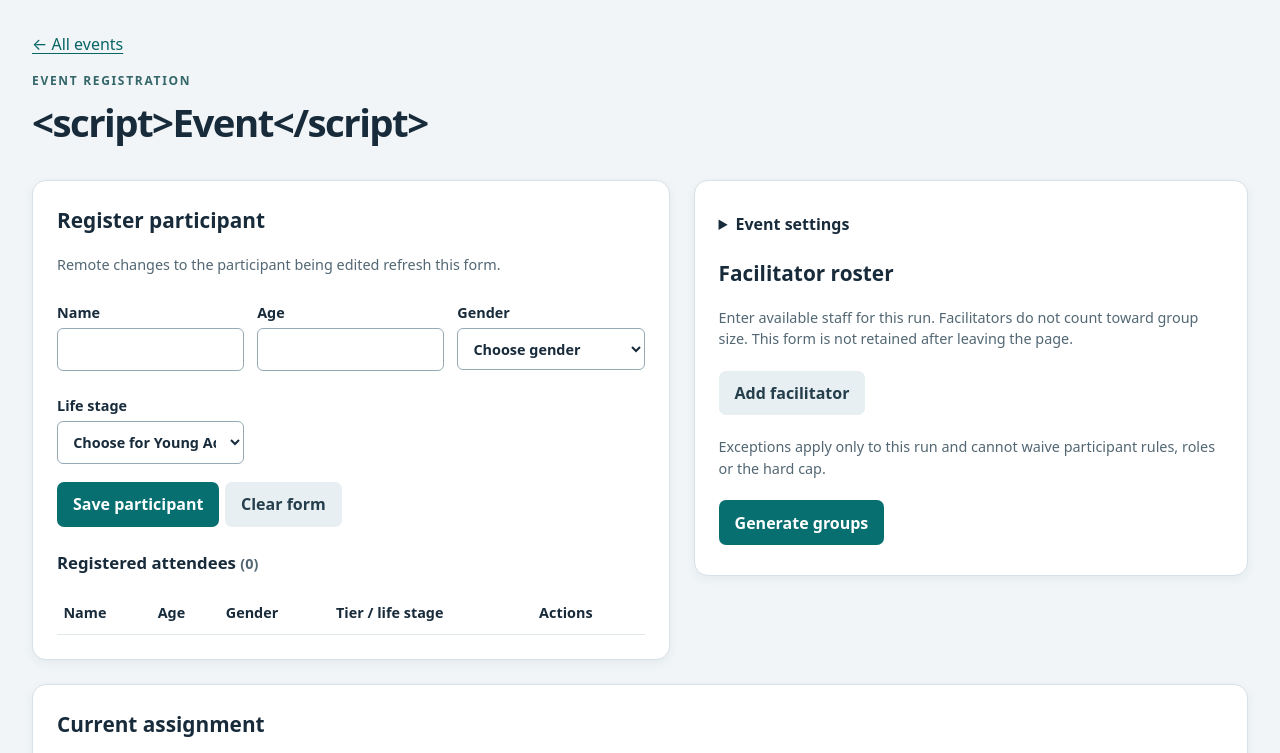
Scenario: saves event settings without changing the API contract or event identity
Expected: the heading "<script>Event</script>" is shown, [32, 96, 428, 148]
Step 1. Click the heading "Event settings" → {"x": 792, "y": 224}, box [736, 213, 849, 235]
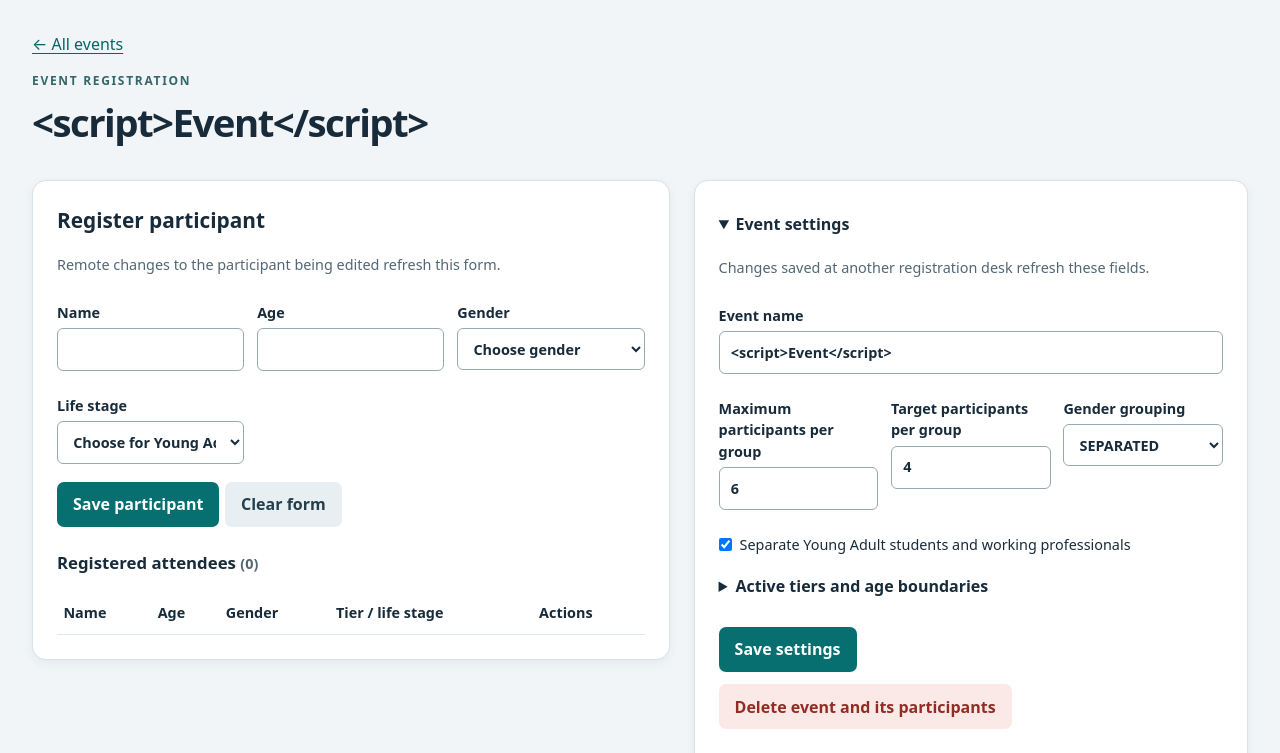
Step 2. Replace the text in the field labelled "Event name" with "Renamed event" → {"x": 971, "y": 352}, box [719, 331, 1223, 374]
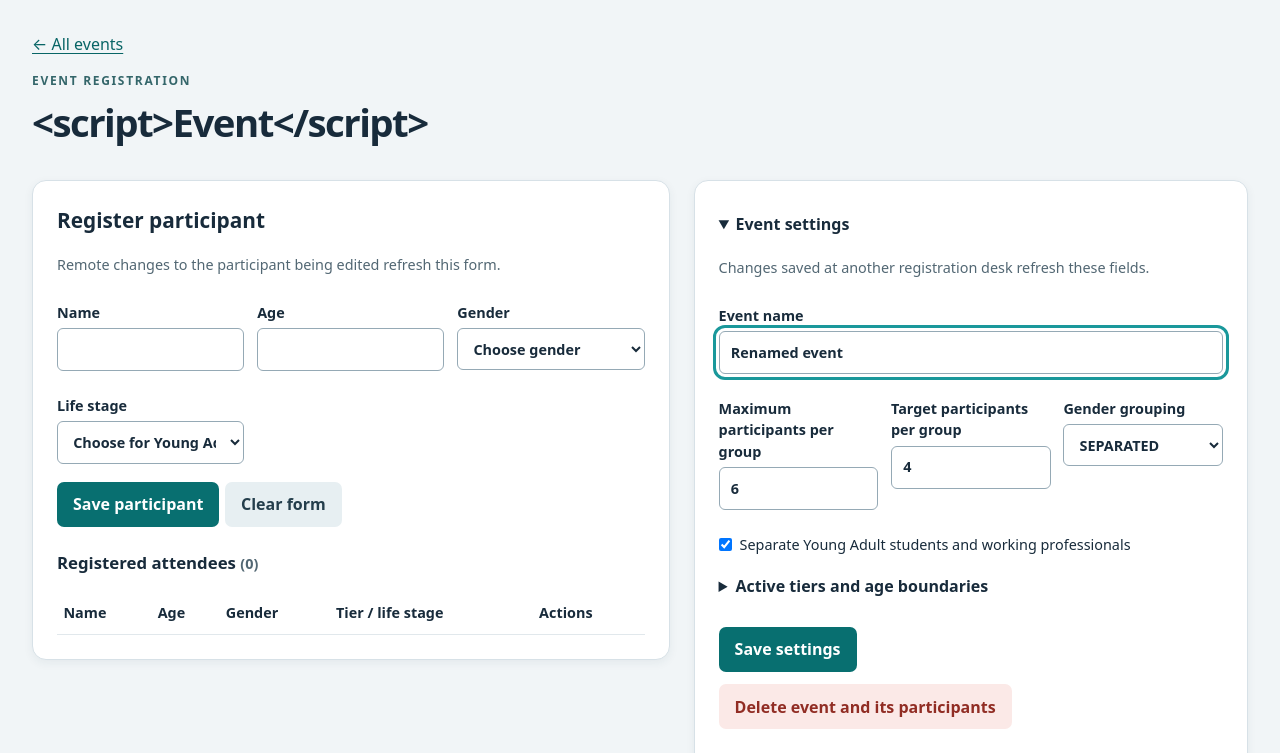
Step 3. Replace the text in the number field labelled "Target participants per group" with "3" → {"x": 971, "y": 467}, box [891, 446, 1051, 489]
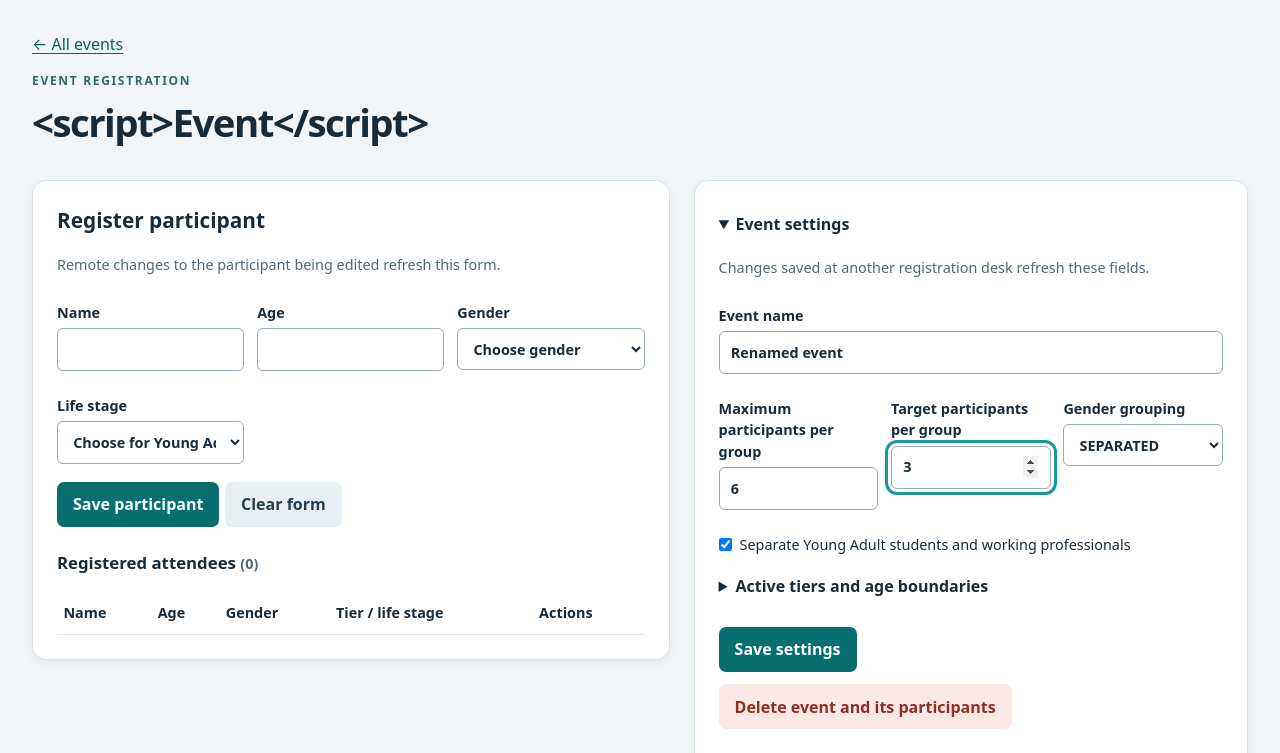
Step 4. Click the checkbox labelled "Separate Young Adult students and working professionals" → {"x": 725, "y": 545}, box [719, 538, 732, 551]
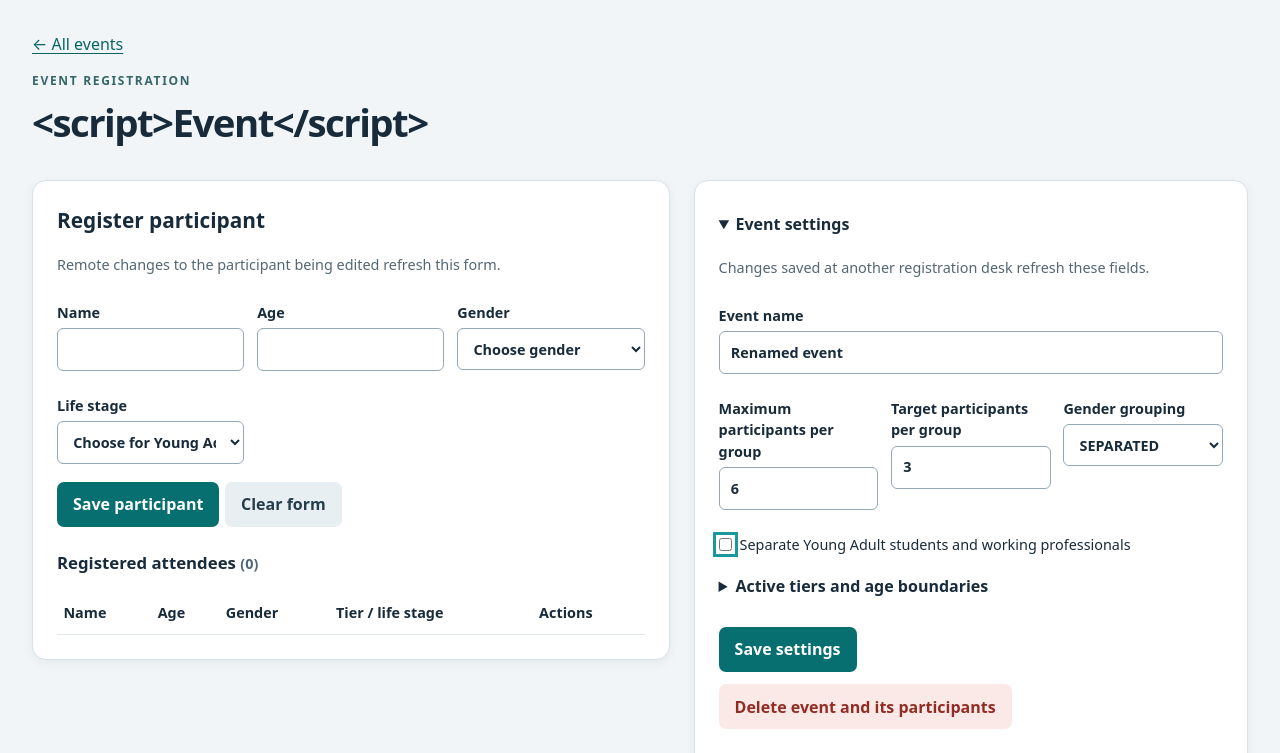
Step 5. Click the button "Save settings" → {"x": 788, "y": 649}, box [719, 627, 857, 672]
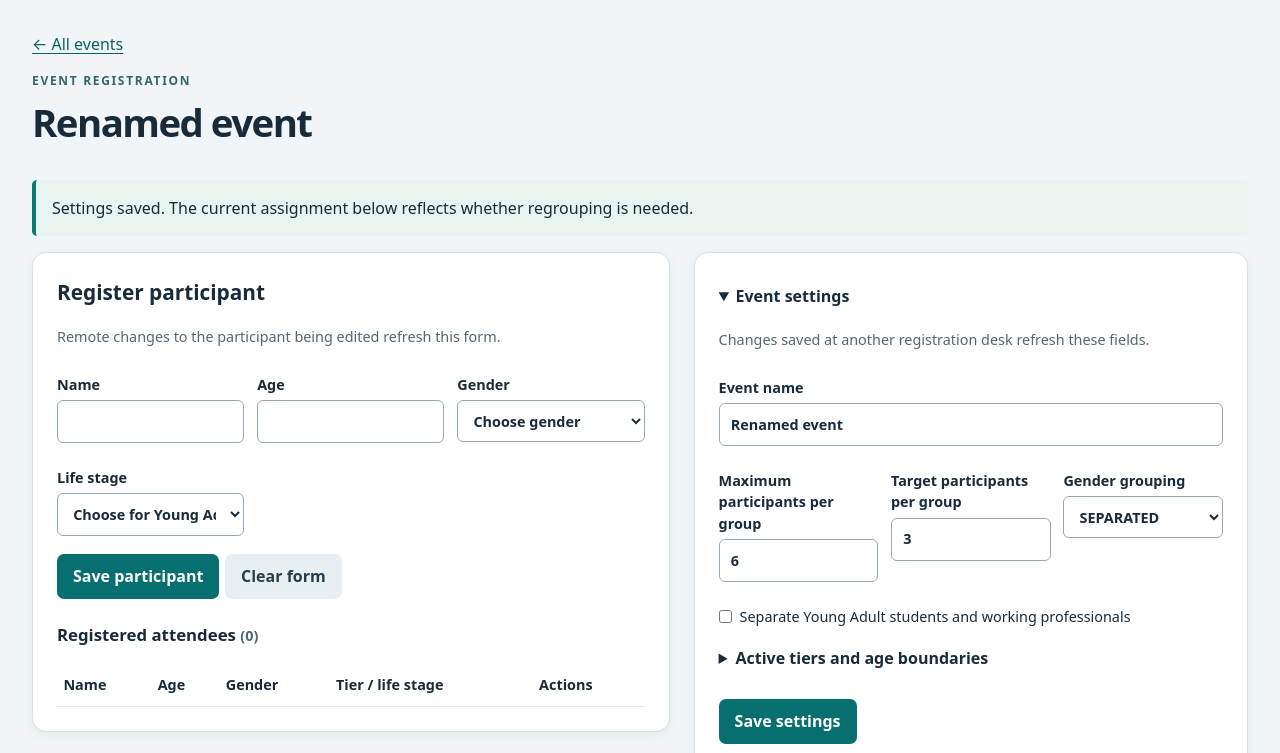
Expected: the heading "Renamed event" is shown, [32, 96, 312, 148]
